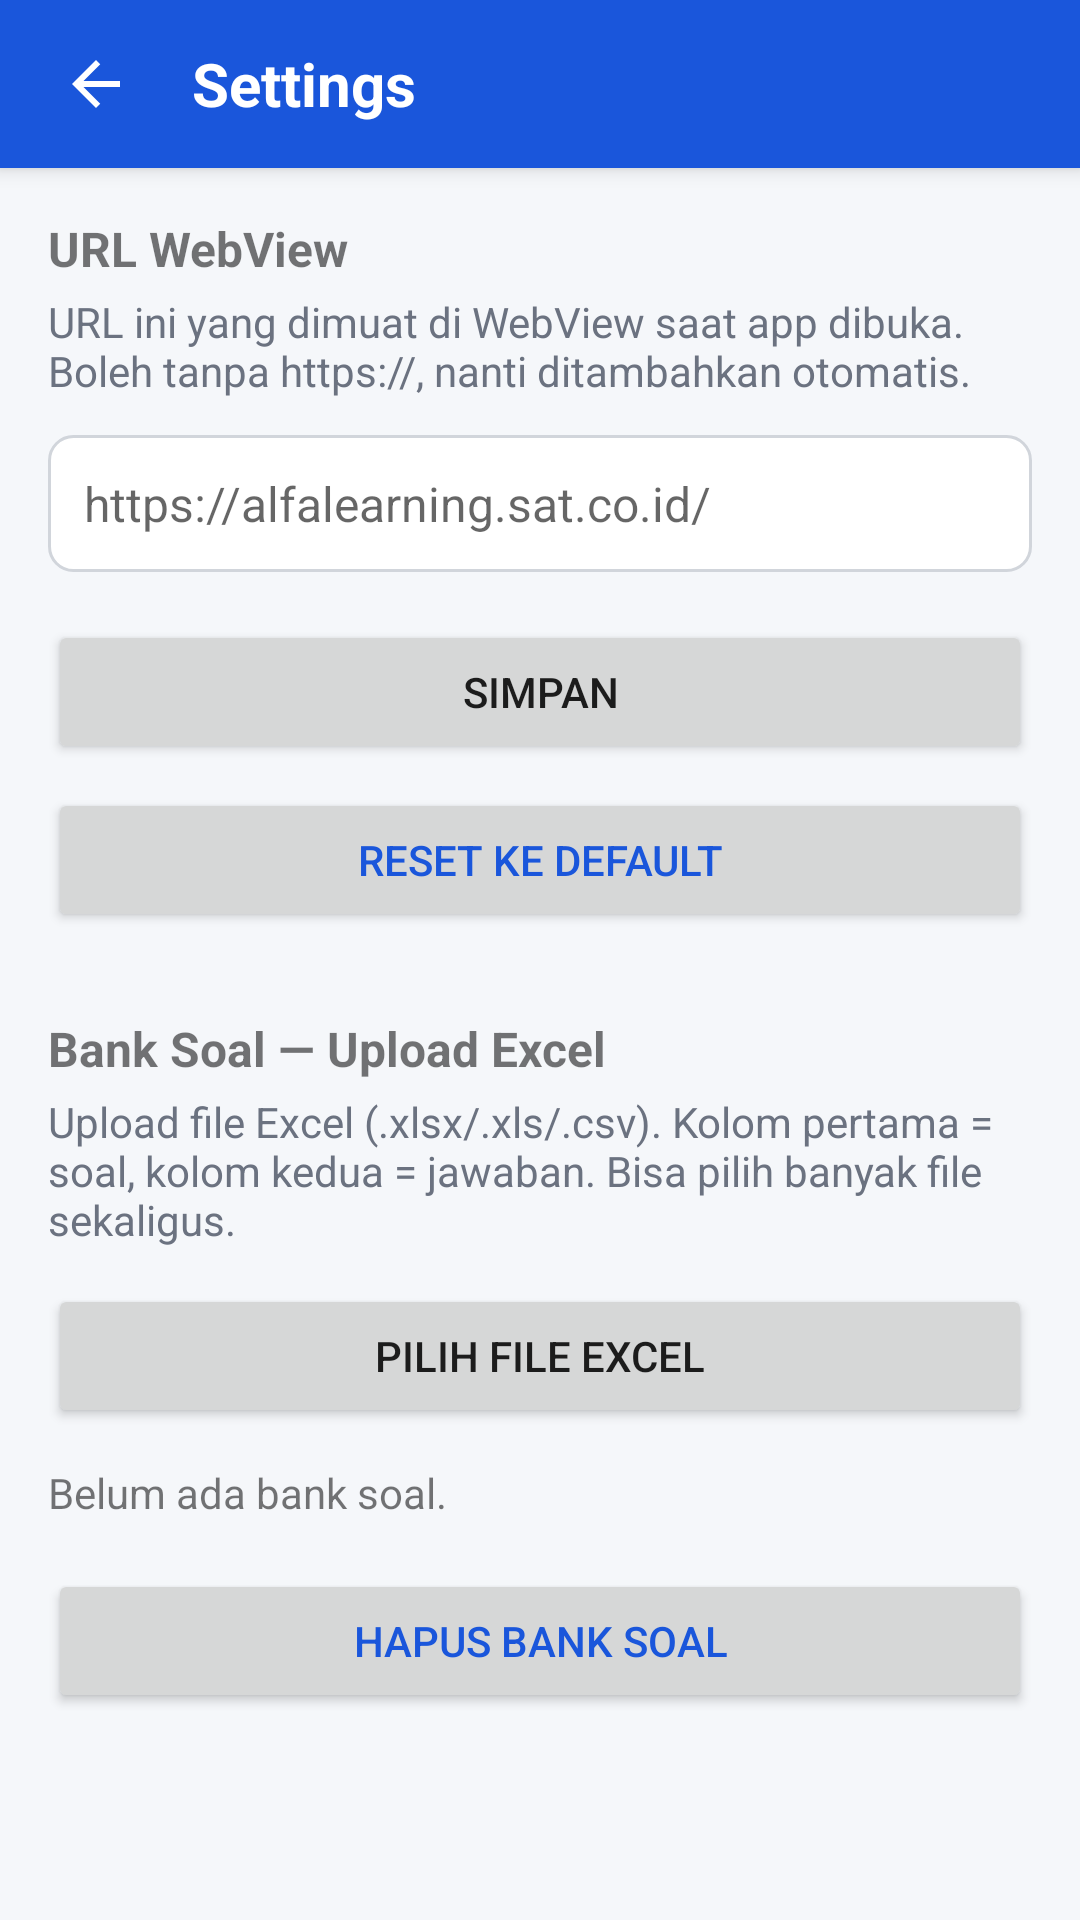

Screen size 1080w x 1920h. Icon name, then its center in pixels as (x,y):
Kembali: (96,84)
